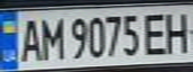0: (87, 12, 106, 60)
5: (121, 11, 145, 57)
7: (103, 11, 124, 58)
9: (66, 13, 87, 60)
A: (15, 15, 42, 62)
E: (139, 10, 172, 56)
H: (160, 8, 193, 55)
M: (36, 15, 66, 61)
